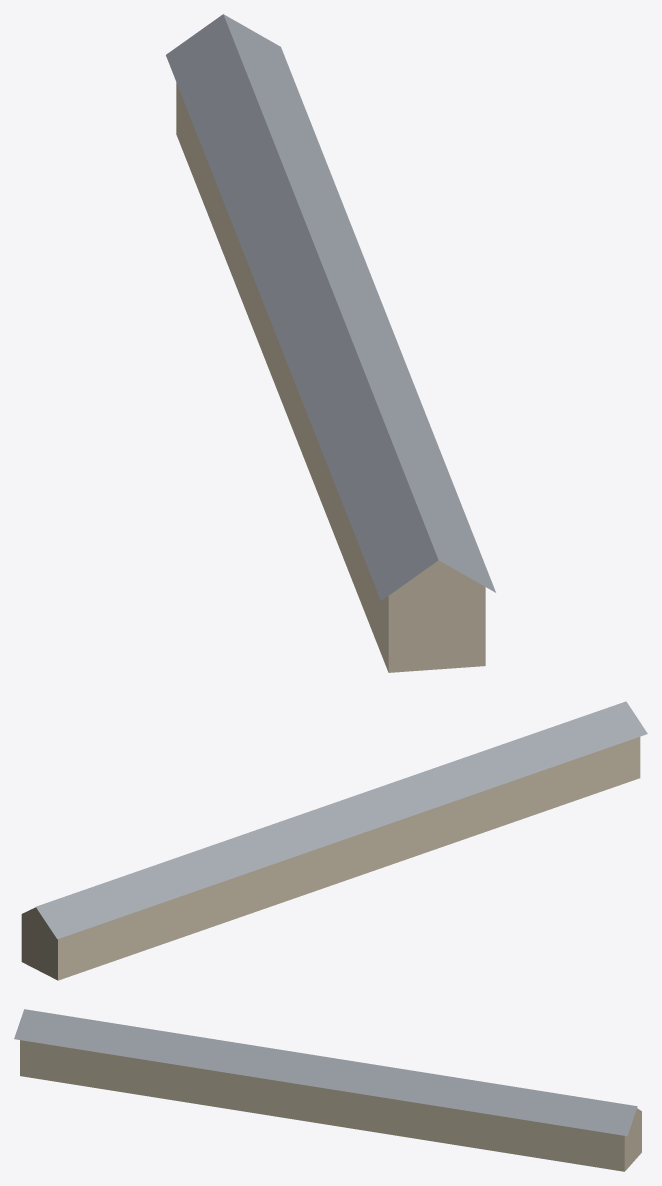
3 views of the same model, one above another, from view 1: azimuth 30°, elevation 25°; view 2: azimuth 150°, elevation 25°; view 3: azimuth 270°, elevation 25° (orthographic). The views are drawn at different scales.
Parts seen in each view (by area): view 1: tuile; view 2: tuile; view 3: tuile.
Boxes of the visible parts, x1,y1,x2,y2 form: tuile: (166, 14, 495, 672); tuile: (21, 701, 647, 980); tuile: (14, 1009, 641, 1171).
Bounding box in the file's own units: 21.6 × 4.73 × 48.11.
